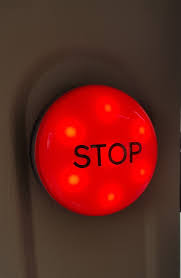bell: (29, 82, 165, 218)
